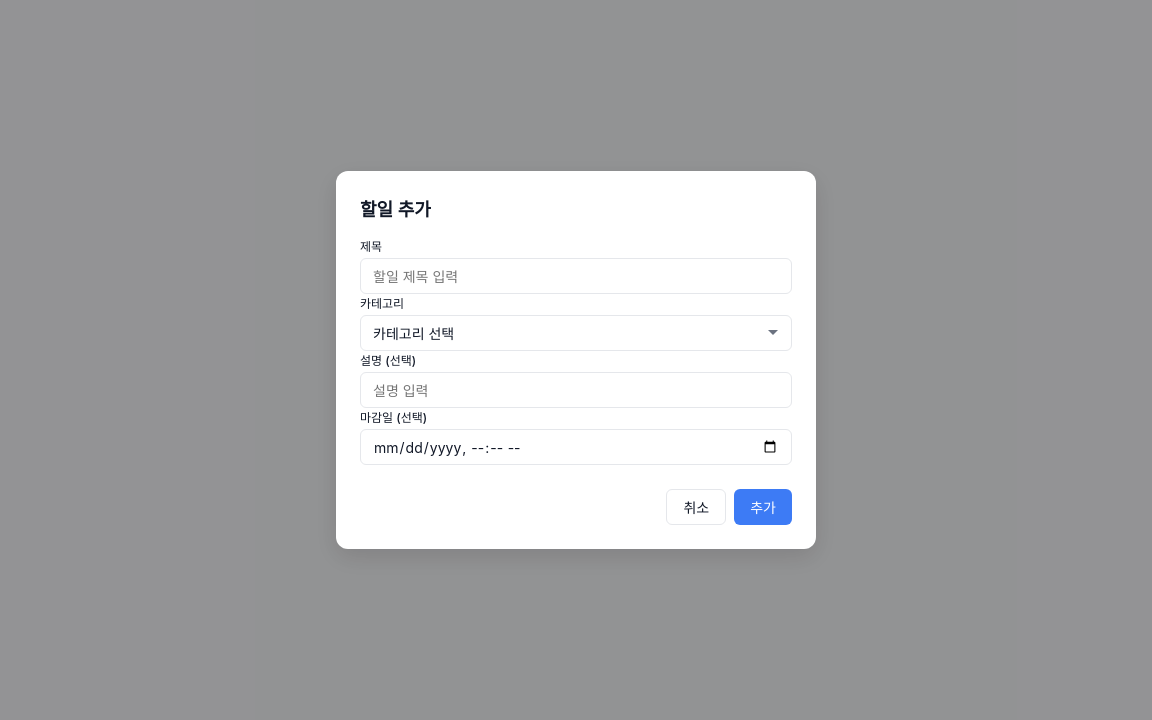
Scenario: AddTodoModal 유효성 검사 › 제목 없이 추가 시 에러 표시
The width and height of the screenshot is (1152, 720).
Click the button "추가" at (763, 507), box [734,489,792,525]
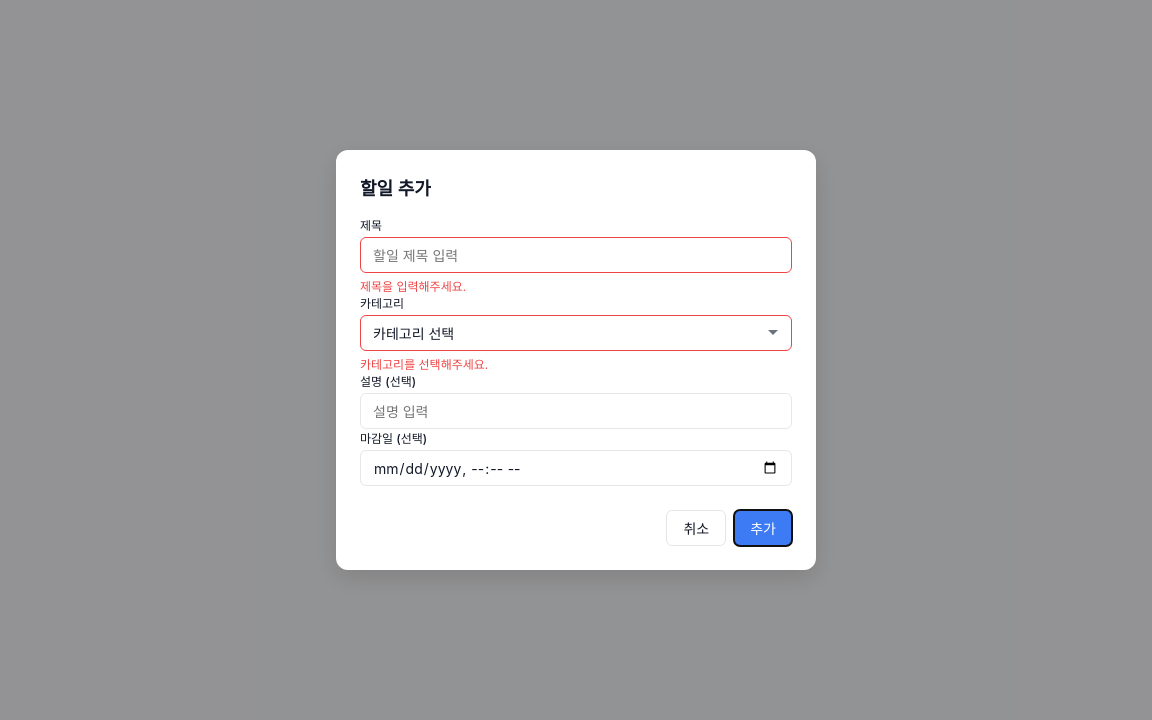
Expected: the text "제목을 입력해주세요." is shown, [360,279,466,294]
